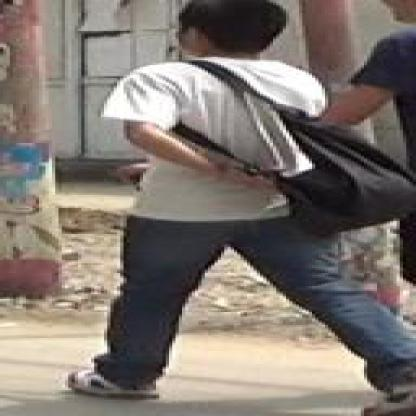kid: (66, 1, 414, 409)
